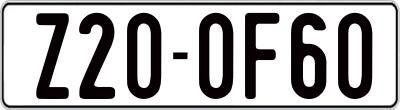0: (335, 10, 375, 101), (199, 10, 239, 96), (125, 11, 160, 99)
2: (79, 11, 119, 103)
6: (288, 11, 324, 103)
F: (244, 13, 283, 99)
Z: (35, 10, 69, 100)
